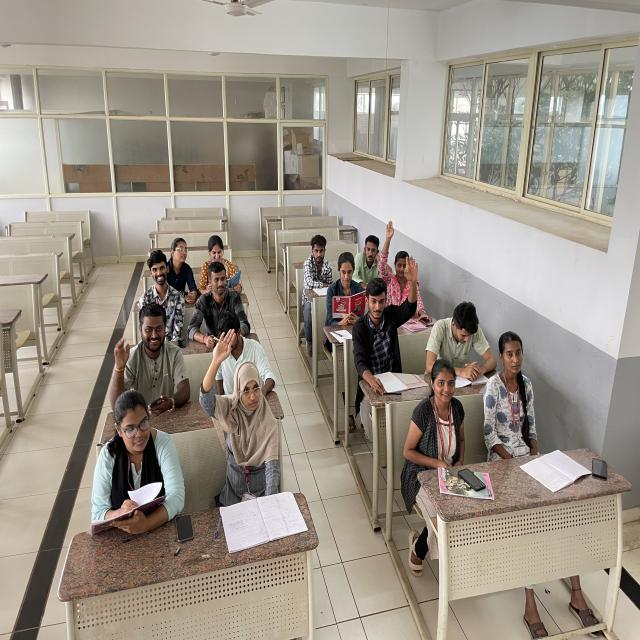Hand Rising: (206, 327, 284, 508), (357, 259, 424, 375), (382, 220, 424, 315)
Reading: (418, 288, 500, 394), (329, 250, 371, 334)
